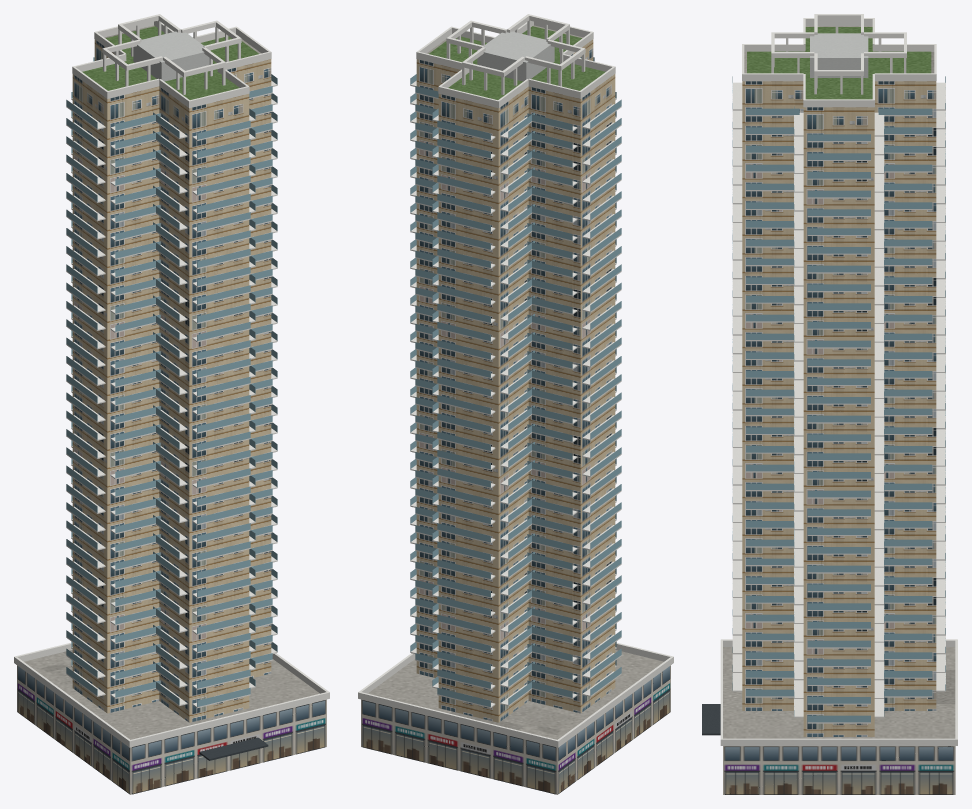
File: OW_CaoOc_CH_ChuThap_116.fbx
3 views of the same model, side by side, from view 1: azimuth 30°, elevation 25°; view 2: azimuth 150°, elevation 25°; view 3: azimuth 270°, elevation 25° (orthographic). The views are drawn at different scales.
Visible parts, largest first — view 1: OW_CaoOc_CH_ChuThap_116_LOD0; view 2: OW_CaoOc_CH_ChuThap_116_LOD0; view 3: OW_CaoOc_CH_ChuThap_116_LOD0.
Boxes of the visible parts, x1,y1,x2,y2 form: OW_CaoOc_CH_ChuThap_116_LOD0: (14, 14, 329, 794); OW_CaoOc_CH_ChuThap_116_LOD0: (358, 14, 673, 794); OW_CaoOc_CH_ChuThap_116_LOD0: (702, 14, 957, 794).
Size of what is drawn, in the model's own units: 36.7 by 120 by 39.55.
